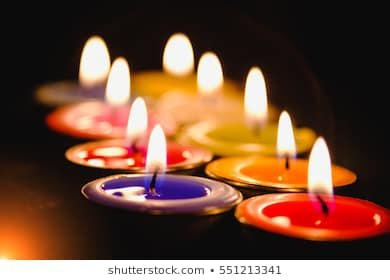fire: (306, 130, 334, 197), (242, 63, 269, 130), (78, 32, 109, 85), (194, 48, 223, 96), (160, 30, 193, 72), (105, 54, 130, 103), (274, 108, 298, 159), (124, 94, 148, 138)
